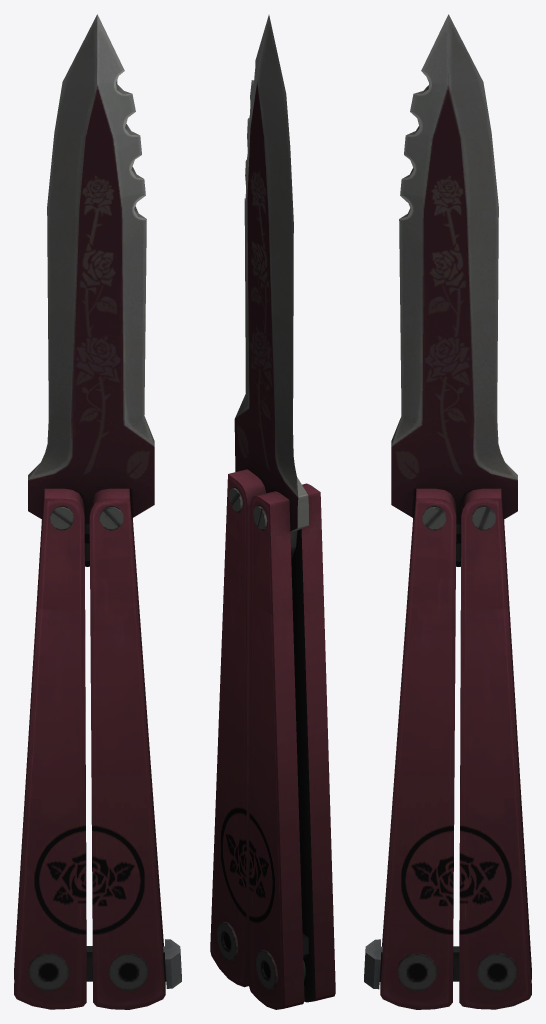
The model's file is model_tf2_blackrose.glb.
3 views of the same model, side by side, from view 1: azimuth 90°, elevation 25°; view 2: azimuth 210°, elevation 25°; view 3: azimuth 270°, elevation 25° (orthographic).
Parts seen in each view (by area): view 1: c_ava_roseknife; view 2: c_ava_roseknife; view 3: c_ava_roseknife.
Boxes of the visible parts, bbox=[...] form: c_ava_roseknife: bbox=[14, 14, 181, 1009]; c_ava_roseknife: bbox=[210, 15, 335, 1009]; c_ava_roseknife: bbox=[364, 14, 531, 1009].
Bounding box in the file's own units: 0.8932 × 15.17 × 2.35.
Materials: 1 (1 with a texture image).
